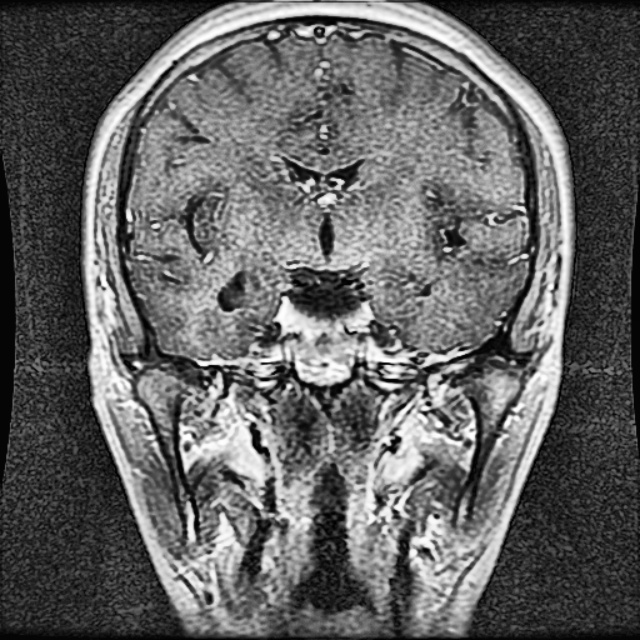Pituitary: (275, 300, 370, 335)
